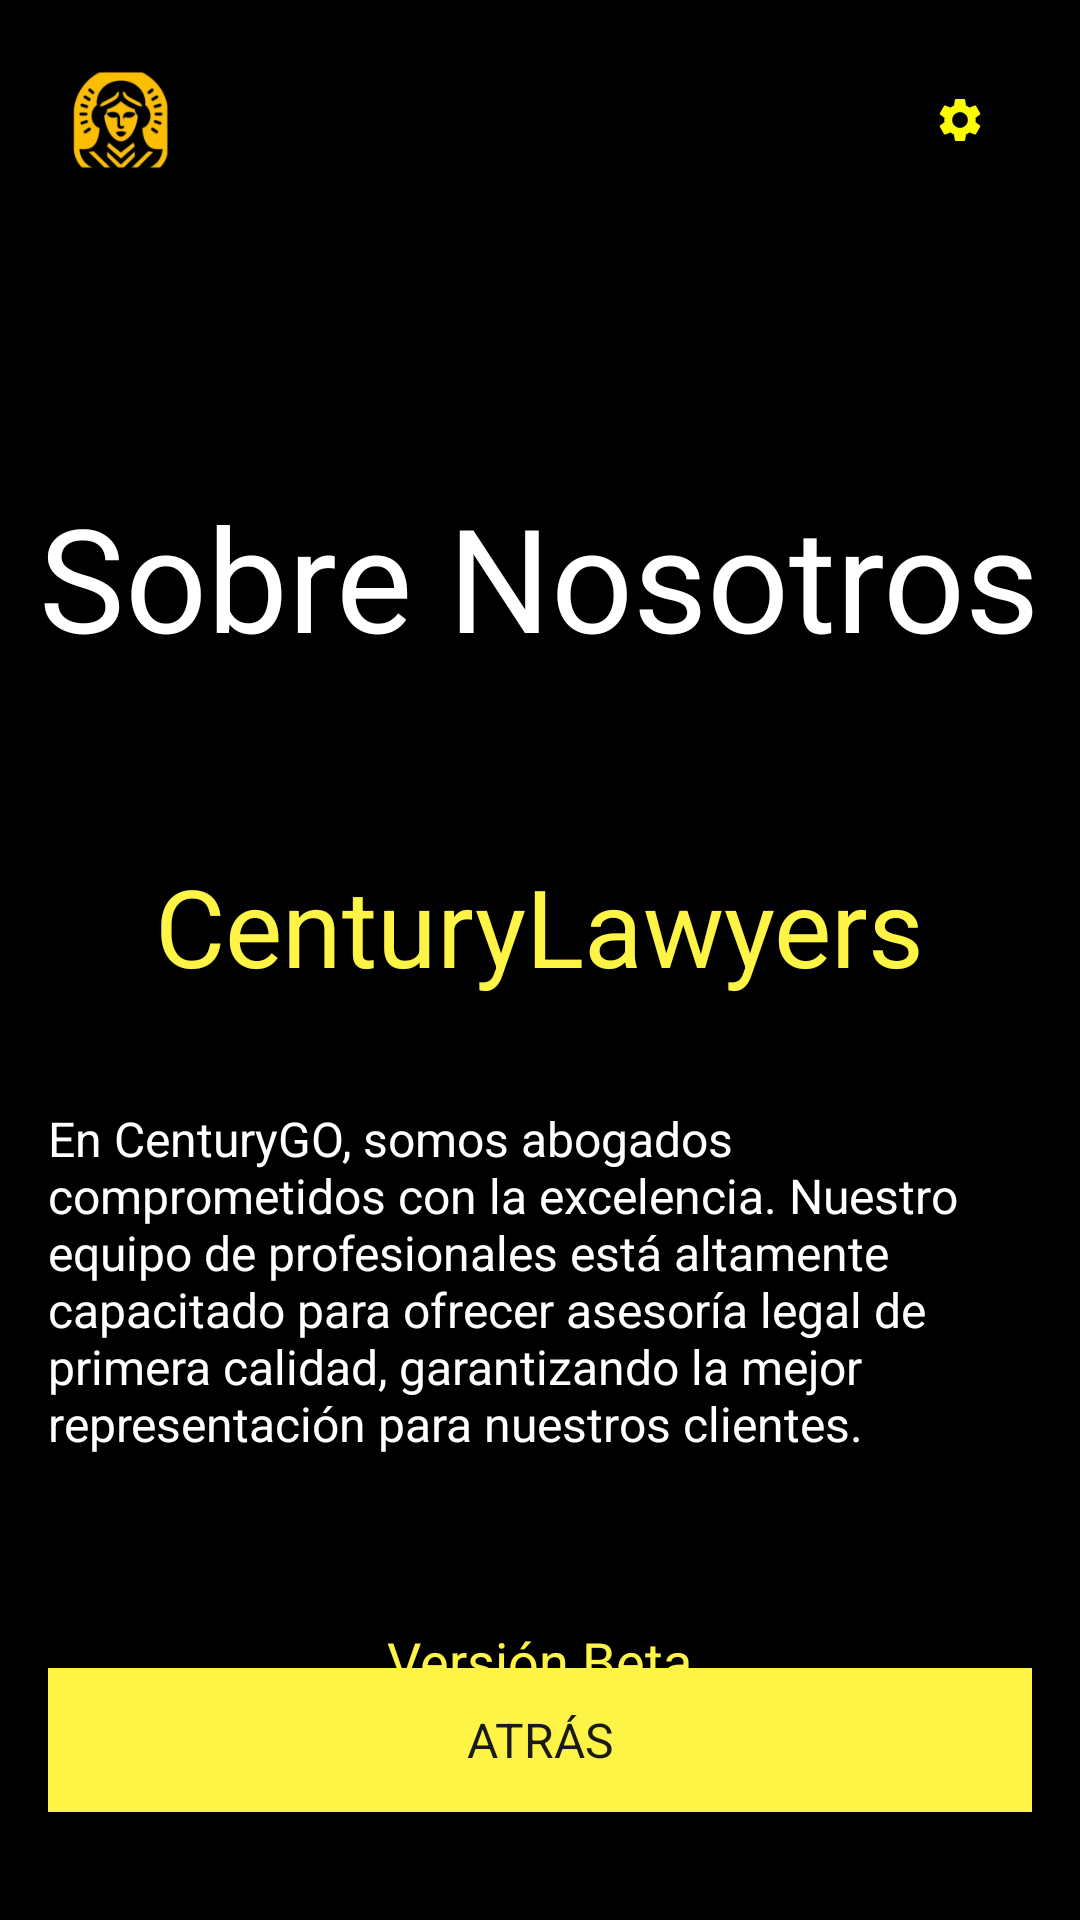

Named icons in this screenshot (1080*1920) and their bounding boxes, (x1, y1, x2, y2):
settings: (939, 99, 981, 141)
